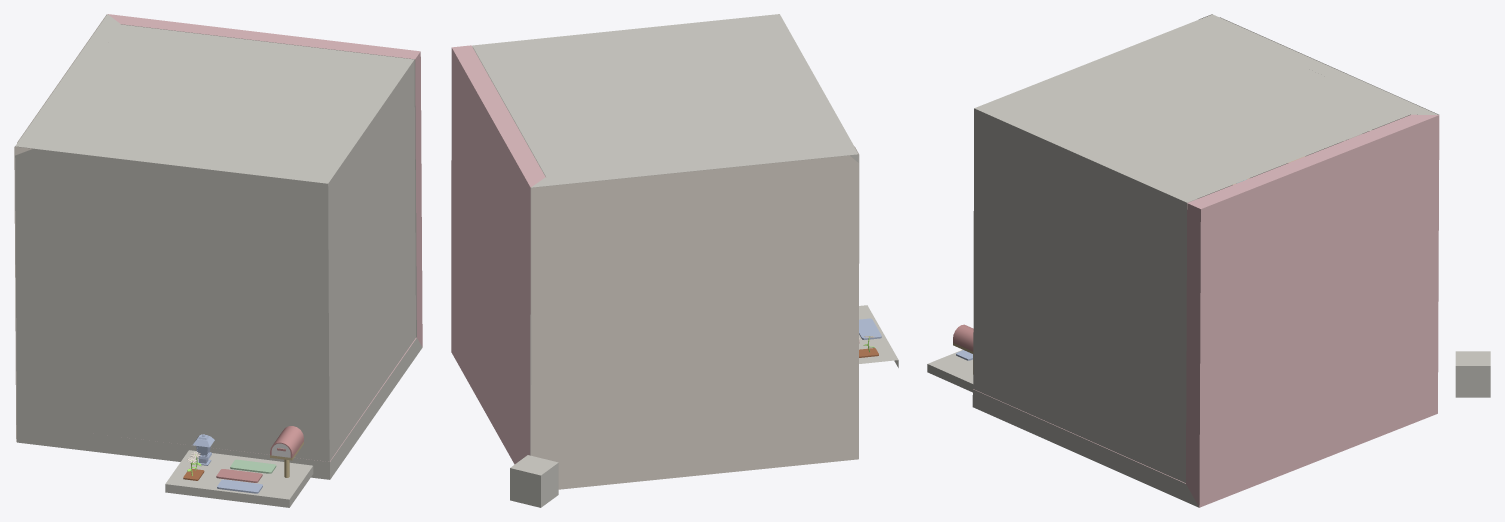
Rendered from FinalRoomV7.glb.
The picture shows the model from 3 angles, left to right: view 1: azimuth 30°, elevation 25°; view 2: azimuth 150°, elevation 25°; view 3: azimuth 270°, elevation 25°; orthographic projection. The views are drawn at different scales.
Parts seen in each view (by area): view 1: Cube, Wall, Floor, Mailbox, False Wall, Floor Pad.001, Floor Pad.002, Floor Pad.003; view 2: False Wall, Cube, Wall, Room Cube, Floor; view 3: Cube, Wall, Room Cube, Floor.
Boxes of the visible parts, x1,y1,x2,y2 form: Cube: (33,24,415,461); Wall: (15,14,422,479); Floor: (165,450,313,507); Mailbox: (270,426,303,477); False Wall: (14,14,106,441); Floor Pad.001: (230,459,276,473); Floor Pad.002: (216,469,262,482); Floor Pad.003: (217,479,262,493); False Wall: (531,146,859,489); Cube: (472,14,853,176); Wall: (451,45,858,464); Room Cube: (510,455,558,507); Floor: (859,305,898,367); Cube: (973,20,1410,482); Wall: (972,14,1439,507); Room Cube: (1455,351,1490,397); Floor: (927,350,973,392).
Bounding box in the file's own units: 34.94 × 24.74 × 42.09.
